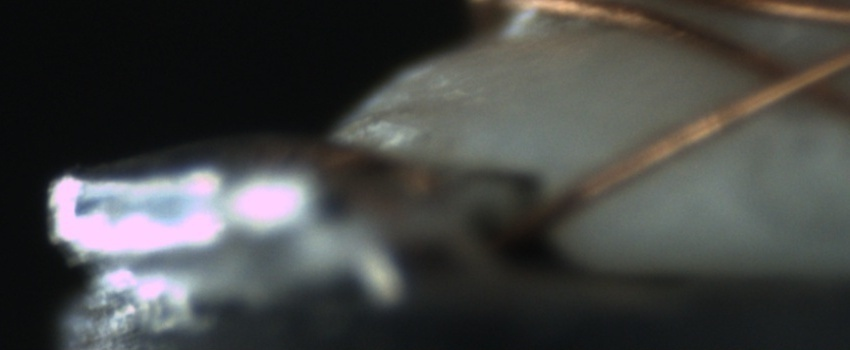CL: (747, 46, 841, 105)
